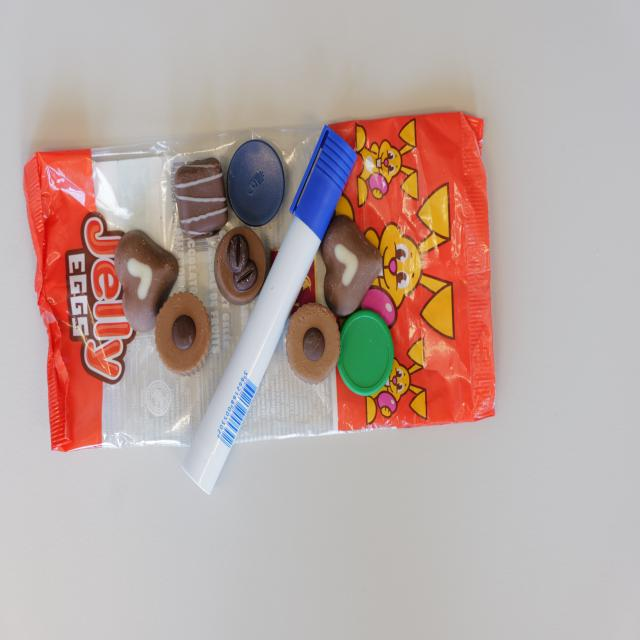Arabia: (213, 222, 270, 308)
Noblesse: (152, 290, 215, 379), (282, 299, 344, 385)
Passion_au_lait: (321, 211, 387, 318), (115, 227, 178, 331)
Stracciatella: (172, 155, 232, 243)
